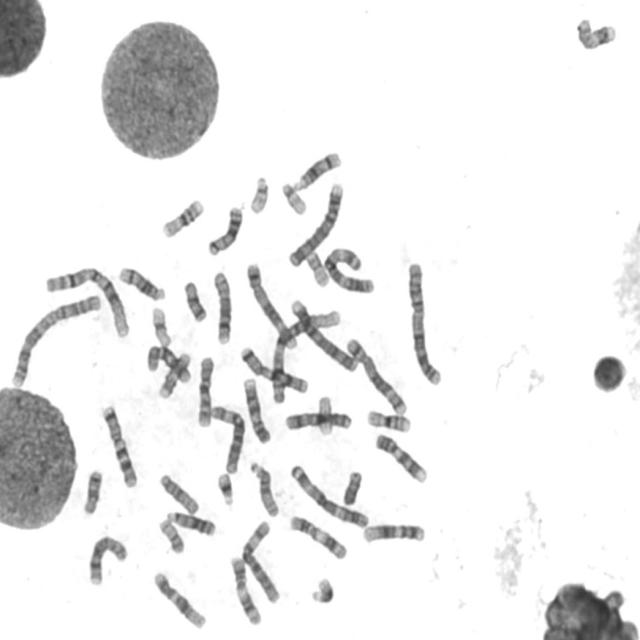A1: (267, 305, 344, 405), (40, 263, 131, 340)
A2: (6, 290, 104, 390), (404, 258, 444, 387)
A3: (286, 460, 371, 529), (321, 243, 377, 295)
B4: (286, 294, 359, 374), (286, 178, 345, 269)
B5: (343, 334, 408, 417), (243, 258, 300, 352)
C10: (143, 341, 193, 385), (194, 352, 216, 430)
C11: (286, 511, 349, 562), (227, 552, 263, 627)
C12: (150, 568, 208, 630), (359, 519, 427, 546)
C6: (238, 517, 282, 605), (208, 401, 246, 475)
C7: (237, 342, 311, 395), (98, 402, 139, 489)
C8: (85, 532, 130, 588), (210, 267, 234, 347)
C9: (372, 430, 429, 485), (240, 374, 272, 446)
D13: (204, 202, 244, 258), (164, 508, 218, 537)
D14: (292, 147, 343, 193), (116, 263, 167, 302)
D15: (156, 470, 201, 516), (247, 458, 281, 518)
E16: (158, 195, 206, 239), (363, 407, 413, 433)
E17: (156, 348, 192, 400), (573, 13, 619, 52)
E18: (181, 277, 208, 324), (80, 466, 104, 517)
F19: (148, 303, 174, 348), (314, 392, 334, 437)
F20: (156, 516, 186, 556), (303, 250, 330, 289)
G21: (308, 574, 336, 605), (214, 470, 235, 508)
G22: (278, 179, 308, 216), (246, 172, 271, 216)
X: (282, 408, 354, 432)
Y: (340, 468, 364, 507)
